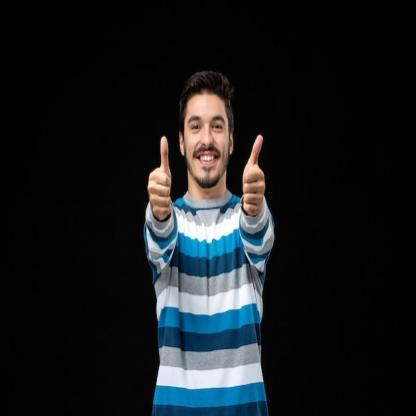thumb_up: (146, 136, 174, 220), (242, 132, 267, 218)
